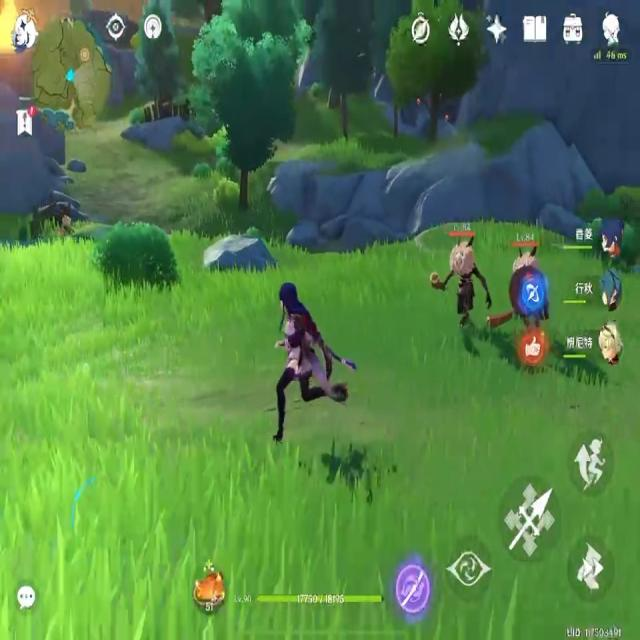genshin-hilichurls: (432, 220, 488, 344), (508, 230, 535, 347)
